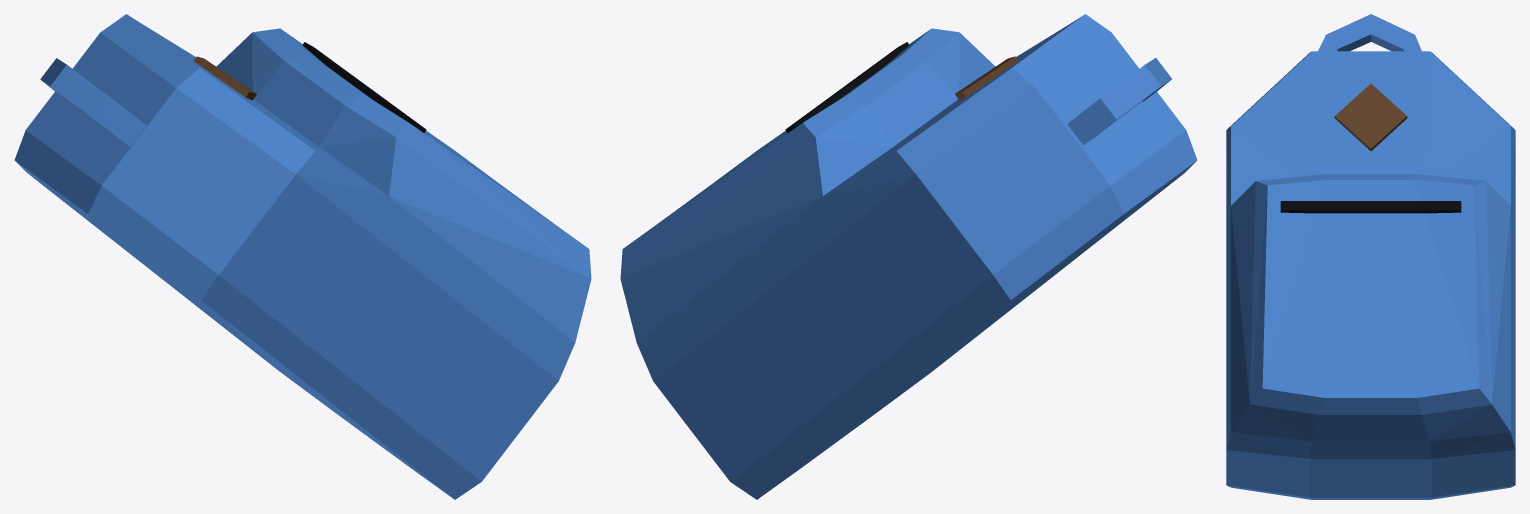
The model's file is bagpack.fbx.
3 renders of one model, left to right at view 1: azimuth 30°, elevation 25°; view 2: azimuth 150°, elevation 25°; view 3: azimuth 270°, elevation 25°, orthographic. The views are drawn at different scales.
Parts seen in each view (by area): view 1: Cube; view 2: Cube; view 3: Cube.
Boxes of the visible parts, <box> form: Cube: <box>14,14,591,499</box>; Cube: <box>620,14,1197,499</box>; Cube: <box>1226,14,1515,499</box>.
Size of the model in its own units: 134 by 122 by 87.83.
